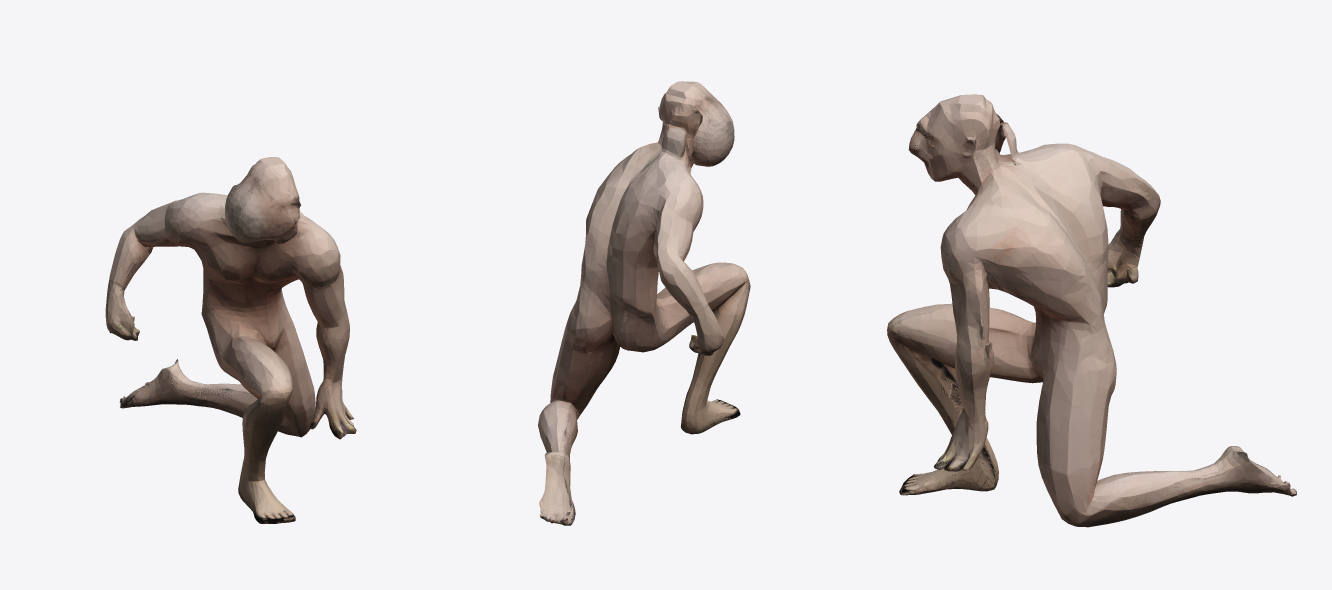
File: voxhammer.glb
The picture shows the model from 3 angles, left to right: view 1: azimuth 30°, elevation 25°; view 2: azimuth 150°, elevation 25°; view 3: azimuth 270°, elevation 25°; orthographic projection. The views are drawn at different scales.
Visible parts, largest first — view 1: world; view 2: world; view 3: world.
Part boxes in pixels (x1,y1,x2,y2): world: [105, 157, 356, 523]; world: [538, 81, 750, 525]; world: [887, 94, 1296, 527].
Size of the model in its own units: 0.6398 by 1.1 by 1.02.
Materials: 2 (1 with a texture image).
